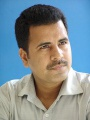male: (24, 23, 74, 85)
